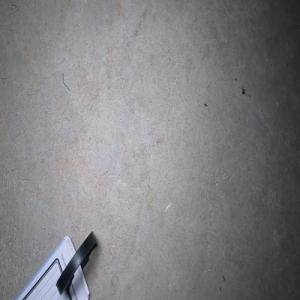LuggageTag: (11, 229, 98, 300)
